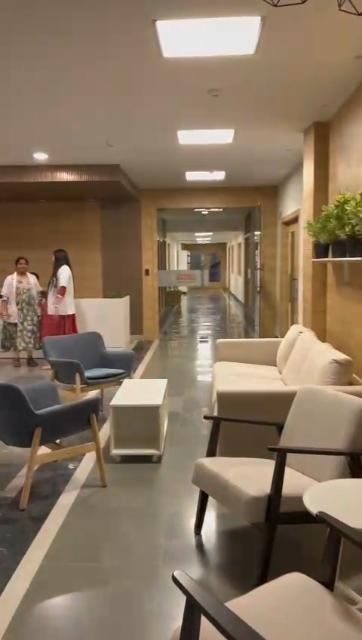floor: (3, 285, 248, 636)
moving-obj: (5, 235, 83, 389)
object: (188, 486, 362, 640), (200, 334, 362, 484), (0, 360, 110, 504), (124, 369, 166, 476)
wall: (2, 168, 138, 246), (313, 123, 362, 191), (72, 250, 142, 296), (316, 264, 362, 332), (262, 210, 284, 332), (142, 189, 276, 207), (304, 130, 314, 326), (142, 206, 156, 336), (282, 184, 302, 208), (0, 242, 14, 270), (31, 250, 48, 272)
